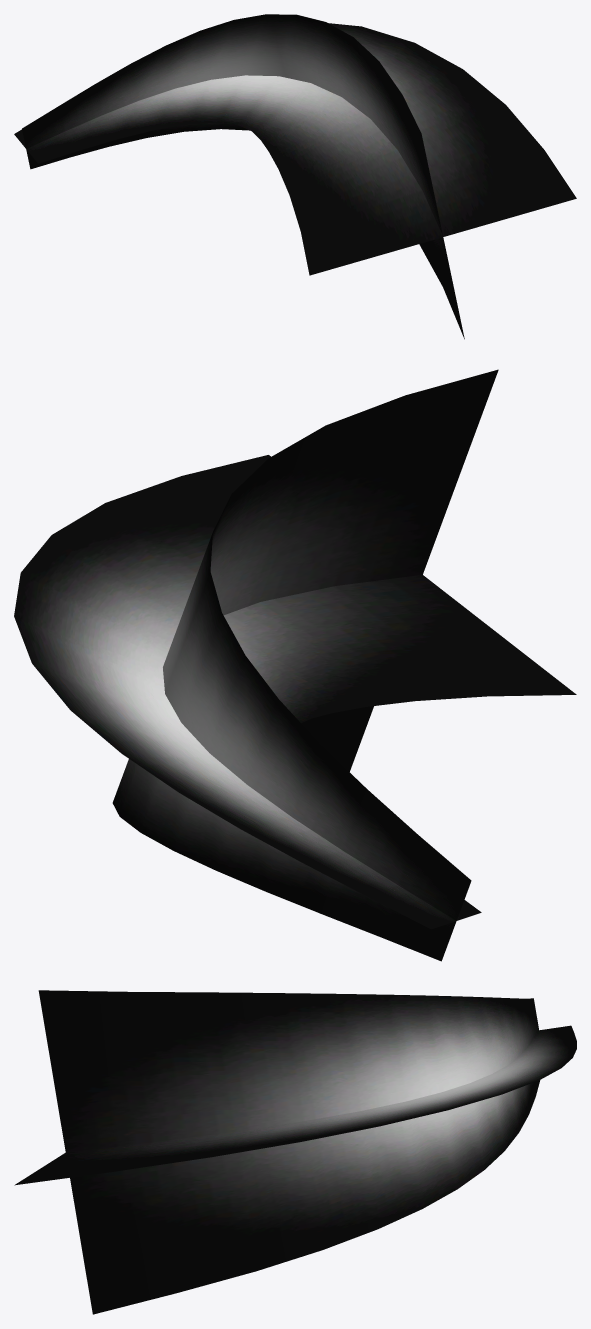
The model's file is vfx_kurp_0124.dae.
3 renders of one model, top to bottom at view 1: azimuth 30°, elevation 25°; view 2: azimuth 150°, elevation 25°; view 3: azimuth 270°, elevation 25°, orthographic. The views are drawn at different scales.
Visible parts, largest first — view 1: vfx_kurp_0124; view 2: vfx_kurp_0124; view 3: vfx_kurp_0124.
Boxes of the visible parts, x1,y1,x2,y2 form: vfx_kurp_0124: (14, 14, 576, 339); vfx_kurp_0124: (14, 369, 576, 961); vfx_kurp_0124: (14, 990, 576, 1314).
Size of the model in its own units: 4.47 by 5.24 by 3.11.
1 material, 1 textured.
